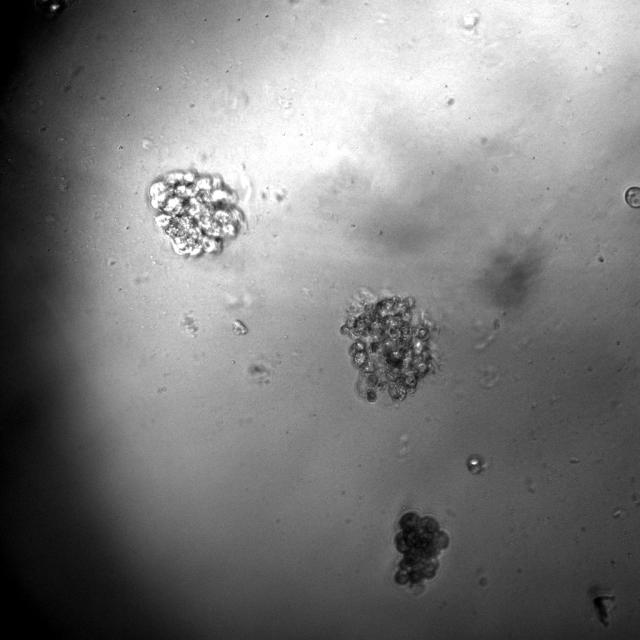organoid: (341, 296, 434, 402), (149, 172, 245, 255), (394, 511, 449, 592), (466, 454, 486, 475), (625, 186, 639, 208)
